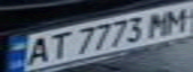3: (124, 14, 151, 43)
7: (90, 20, 115, 52), (72, 25, 96, 55), (109, 17, 133, 47)
A: (21, 34, 54, 66)
M: (142, 8, 175, 38), (160, 4, 193, 34)
T: (42, 29, 72, 61)
